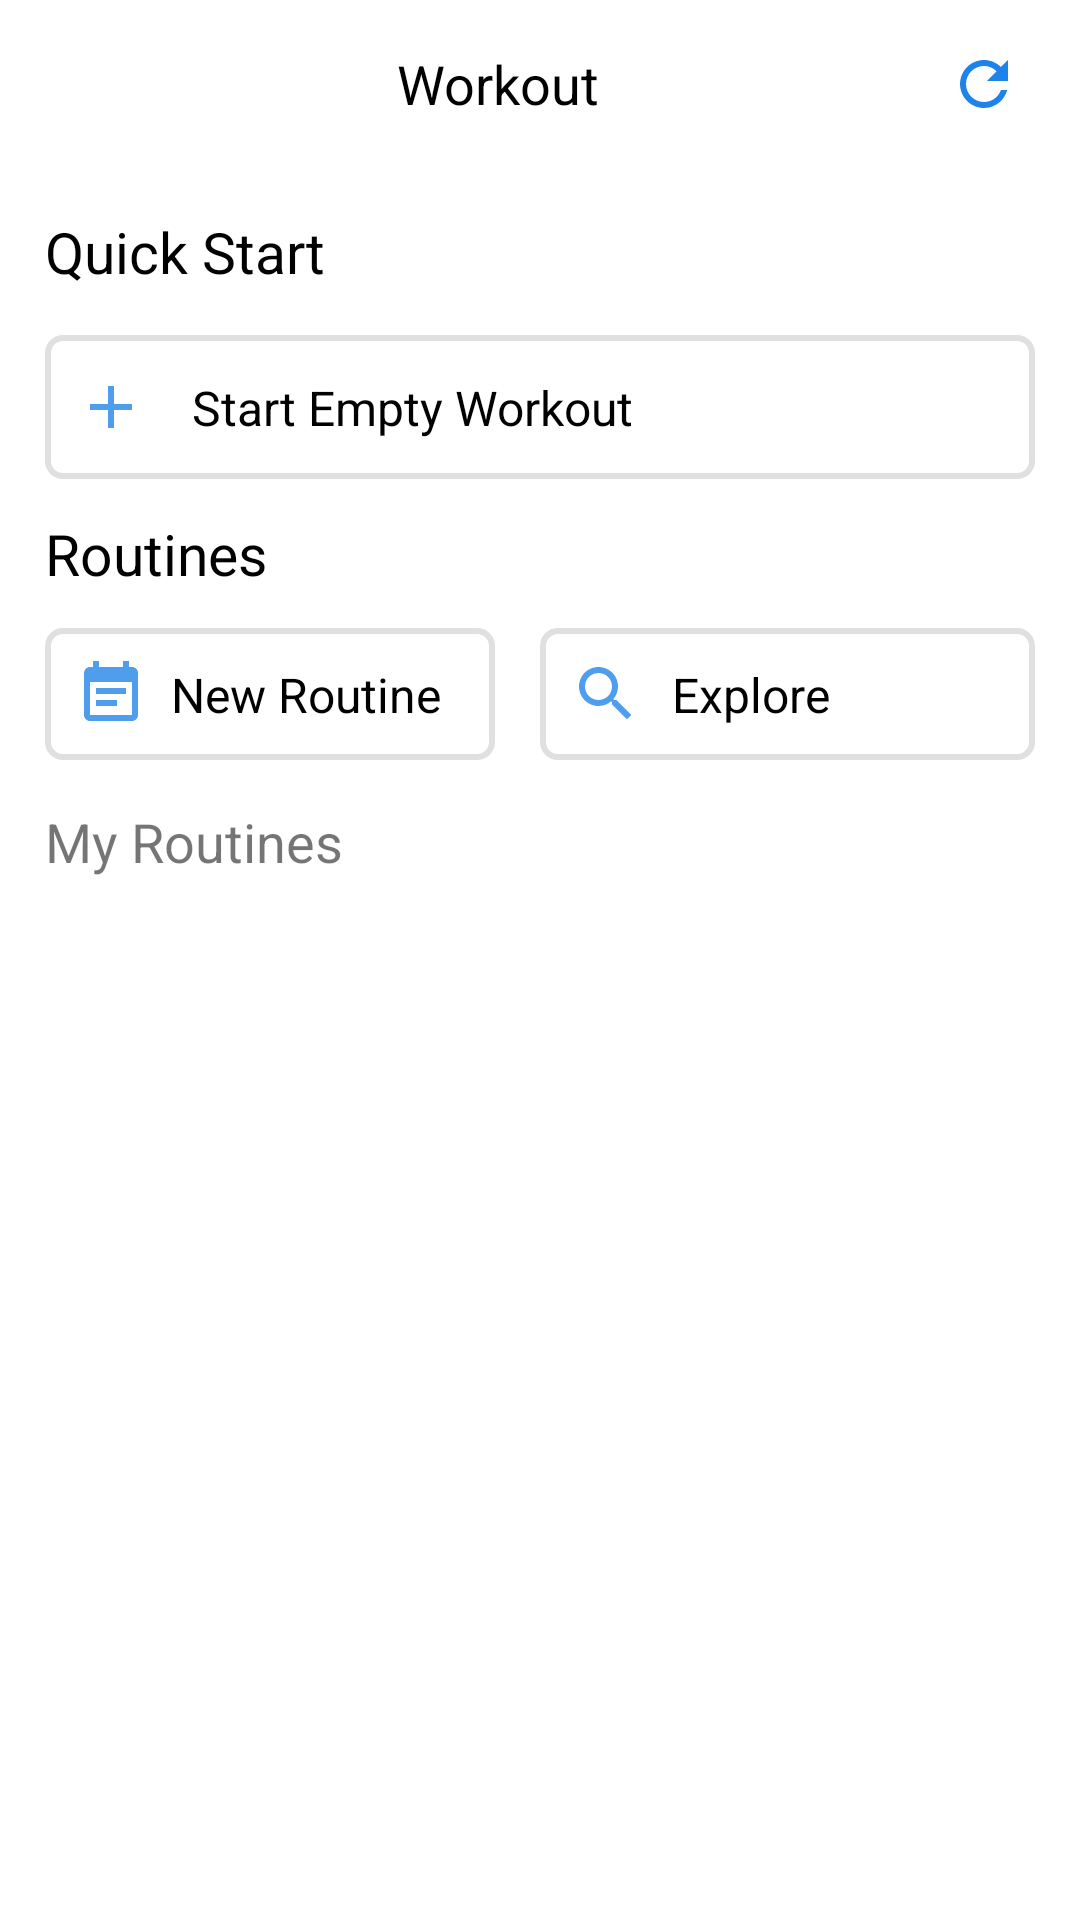

Where icons sit on this 1080w x 1920h app screen, as (x1, y1, x2, y2):
add: (90, 386, 132, 428)
refresh: (960, 60, 1008, 108)
rountine: (84, 661, 138, 721)
search: (579, 667, 631, 719)
